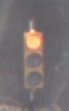Red: (21, 29, 45, 87)
